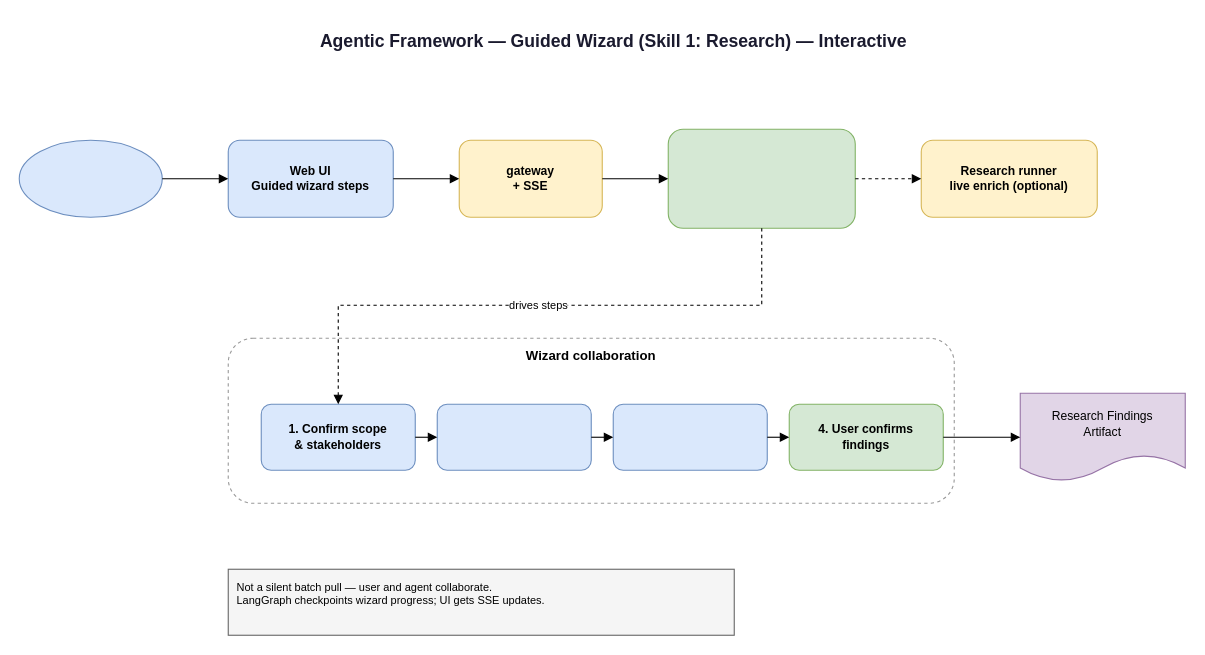
This 1205x655 diagram has some shape labels left out. The shapes that lost their labels are listed below. From the top down, each one's box as (x1, y1, x2, y2) in pixels, then its label:
(18, 139, 162, 217): User opens an engagement
(667, 128, 855, 228): agent-orchestrator + Research skill (mounted)
(436, 403, 591, 470): 2. Gather context & dependencies
(612, 403, 767, 470): 3. Review inputs & constraints
